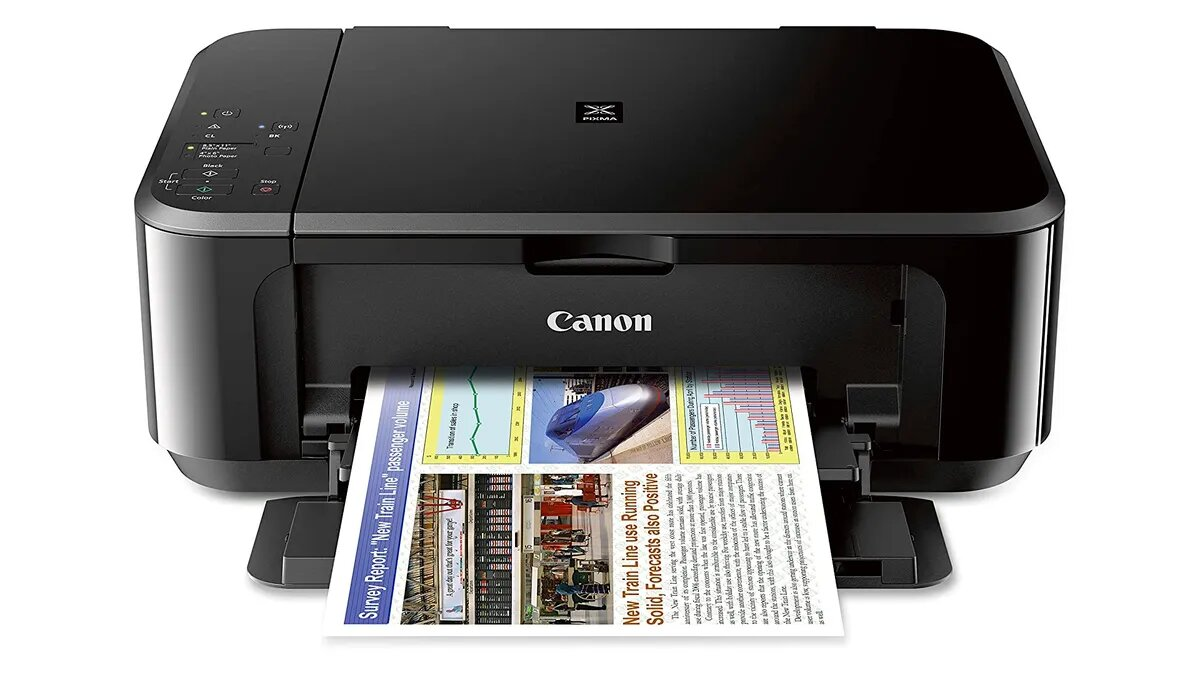printer: (133, 28, 1069, 640)
